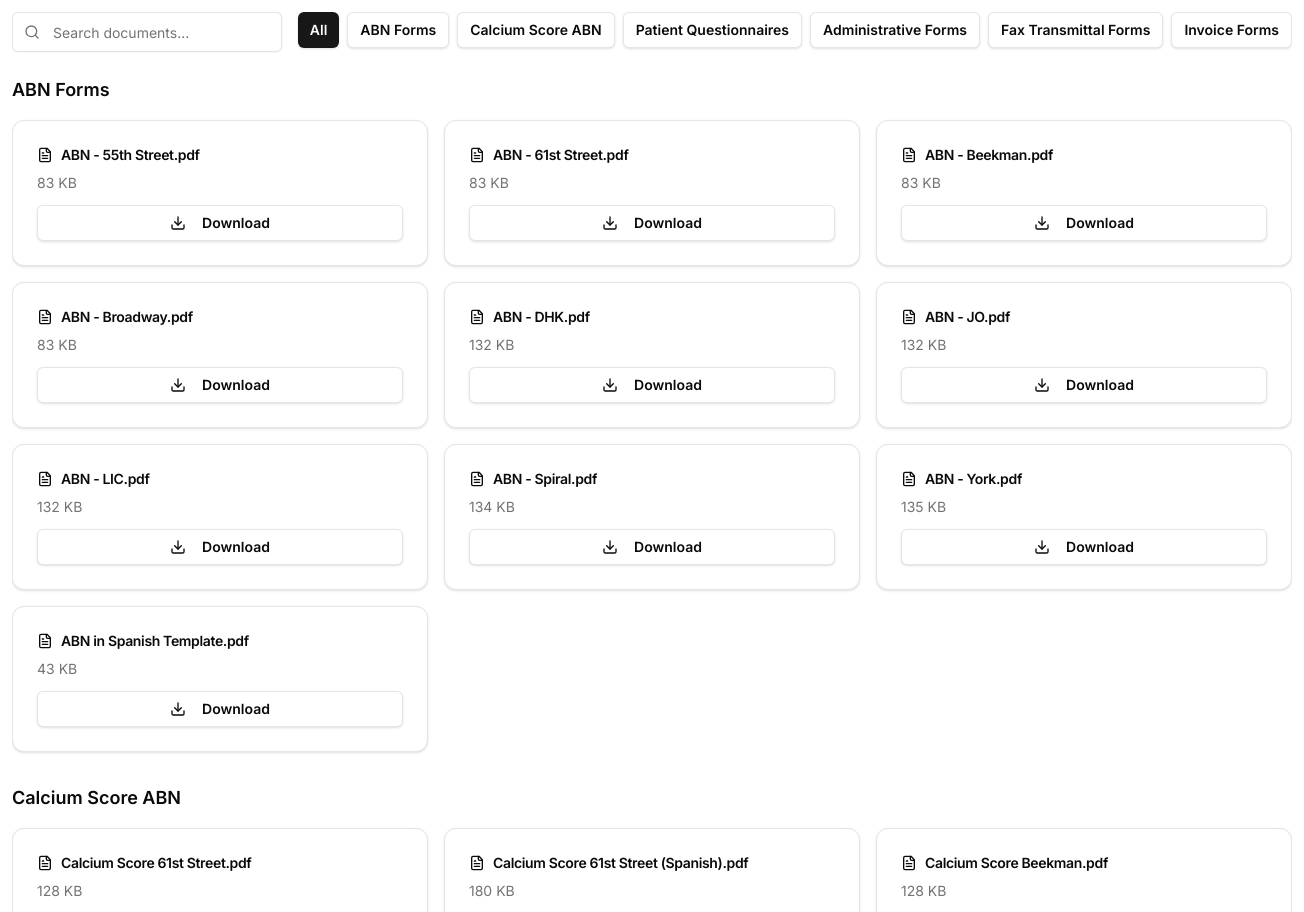
Scenario: DocumentBrowser › User Flows › should support search and filter workflow
// User searches for "Form"
In the field with placeholder "Search documents...": (147, 32) [12,12,282,52], type "Form"
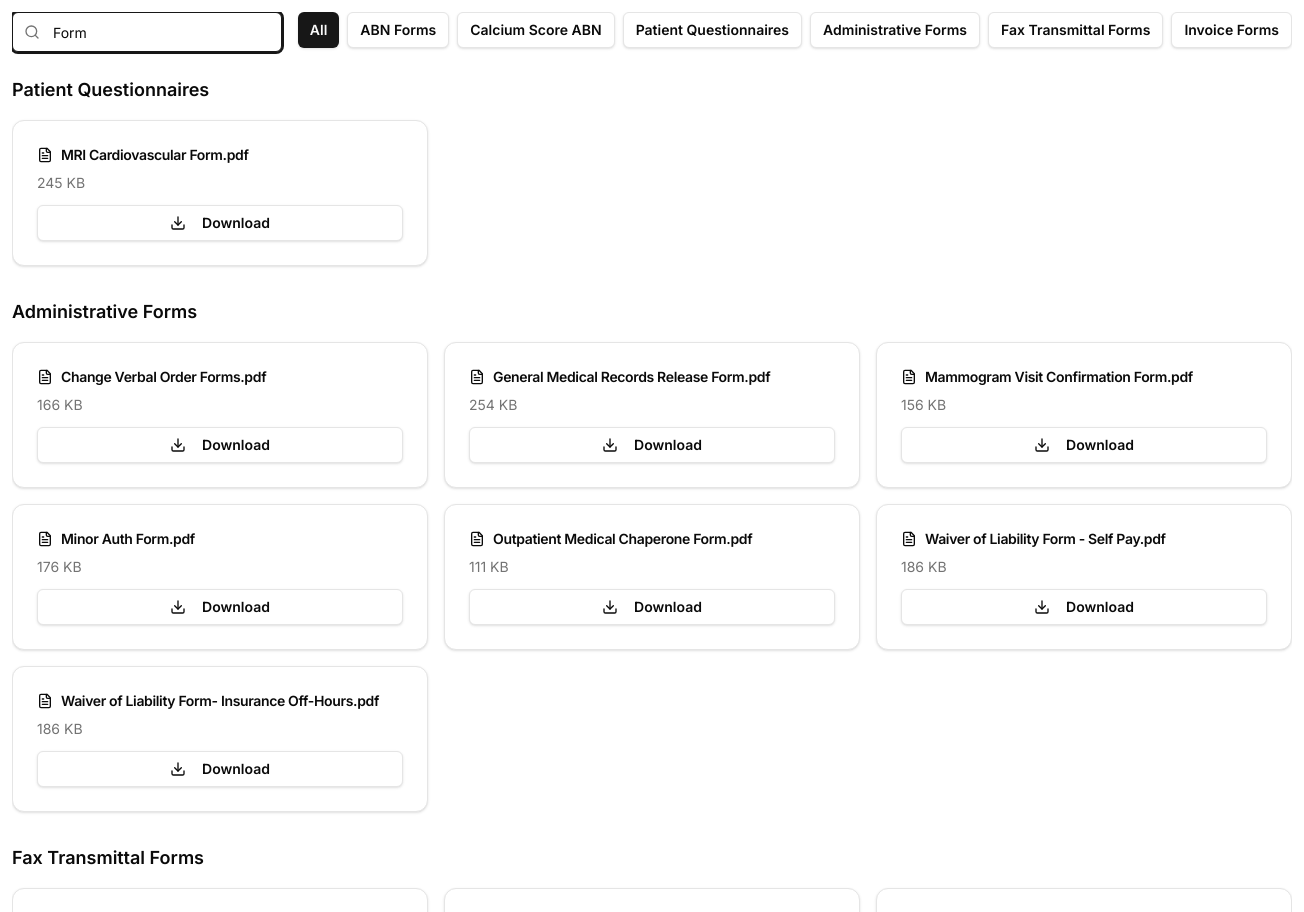
// User then filters by Administrative Forms
Click the button "Administrative Forms": (895, 30) [810,12,980,48]
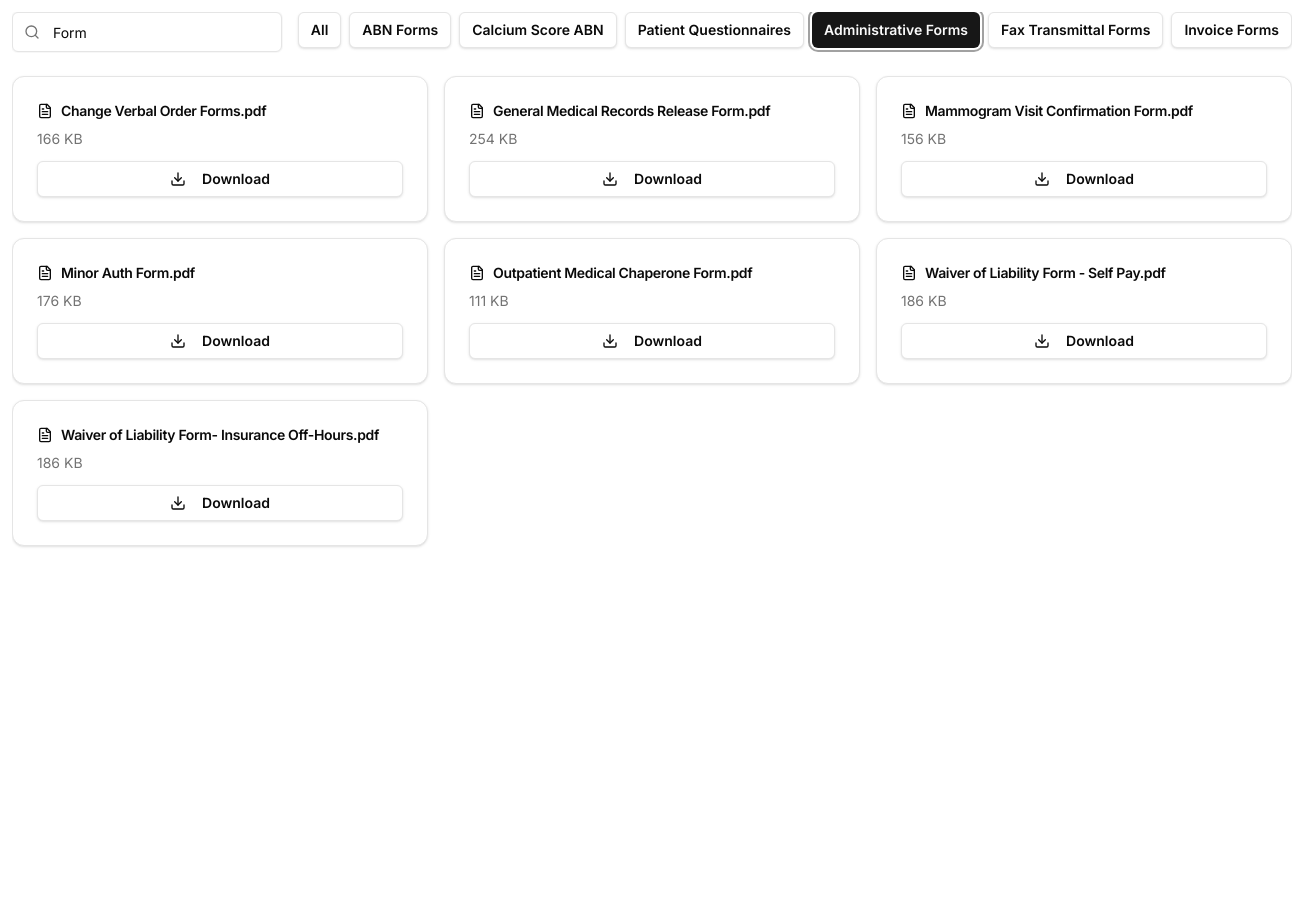
Expected: the text "Minor Auth Form.pdf" is shown, [37,264,195,281]
// Clear search to see all Administrative Forms
Clear the field with placeholder "Search documents...": (147, 32) [12,12,282,52]
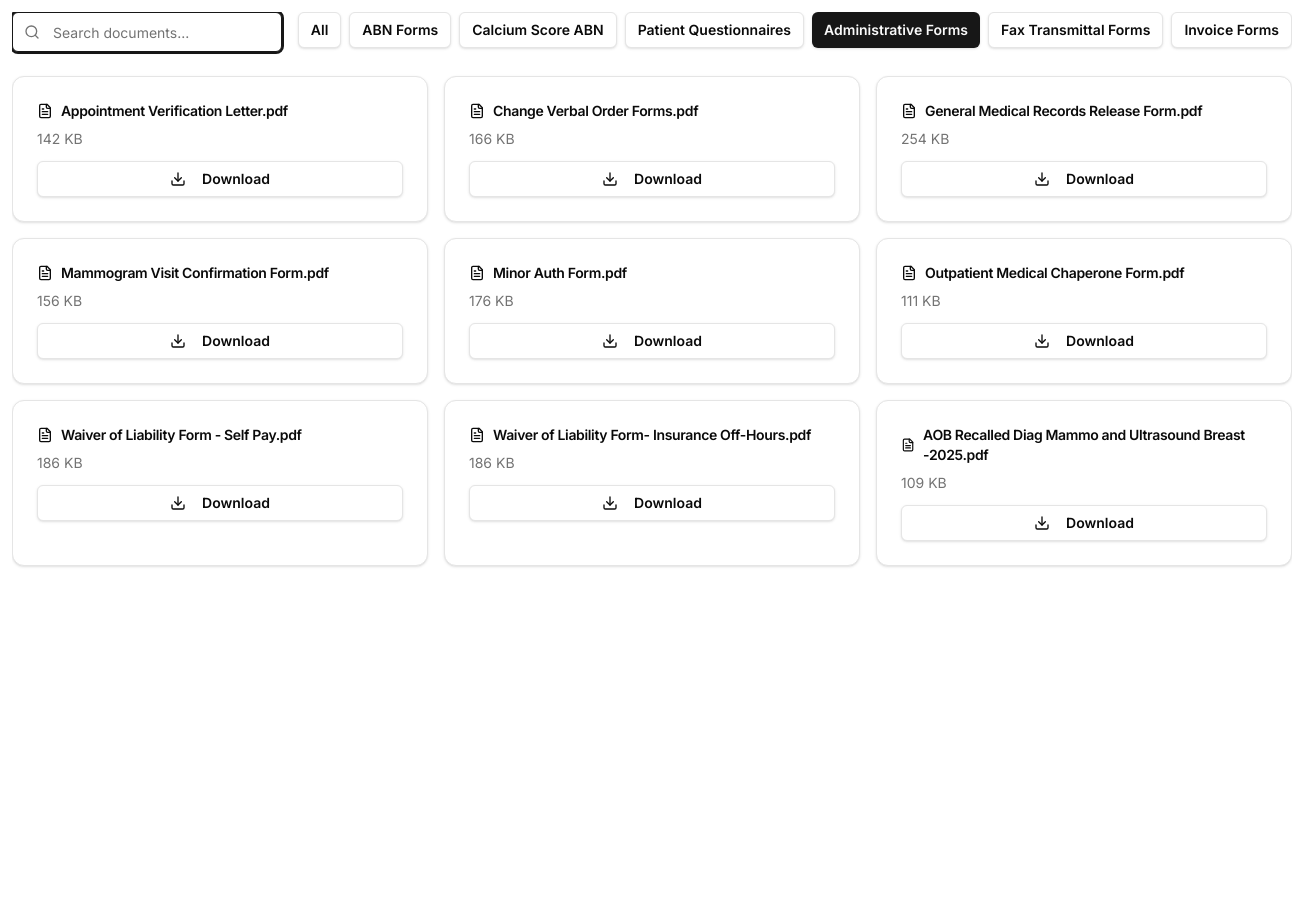
Result: the text "Appointment Verification Letter.pdf" is shown at [37,102,288,119]
